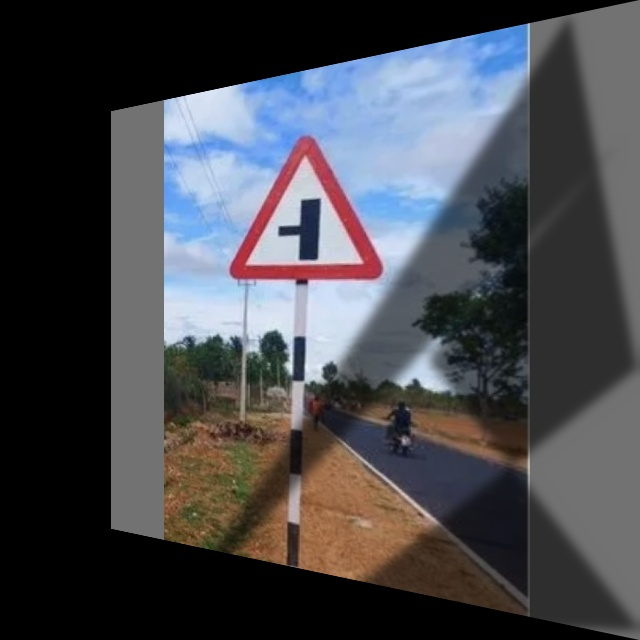Side_Road_Left: (231, 125, 384, 289)
